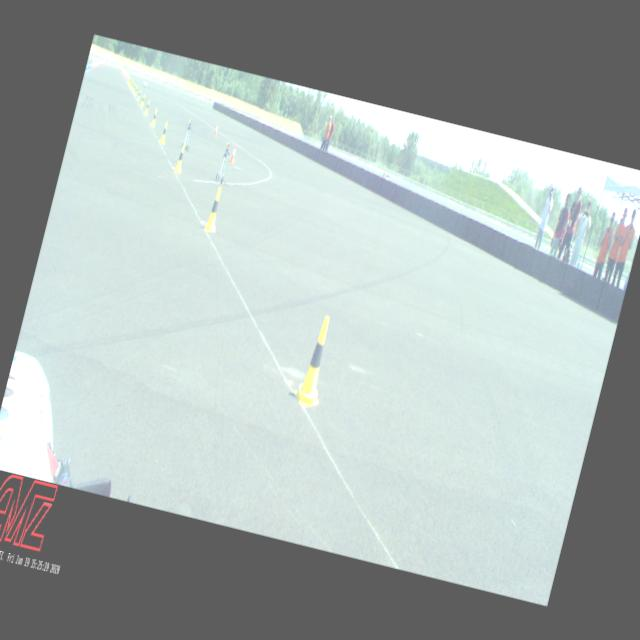orange_cone: (229, 143, 239, 163), (213, 124, 219, 136)
yellow_cone: (290, 312, 340, 410), (203, 186, 226, 232), (174, 144, 188, 172), (159, 122, 170, 144), (150, 108, 158, 126), (144, 100, 150, 114), (140, 94, 146, 105), (136, 90, 142, 100), (133, 86, 138, 96), (132, 83, 136, 92), (130, 81, 134, 89), (129, 78, 132, 85)
